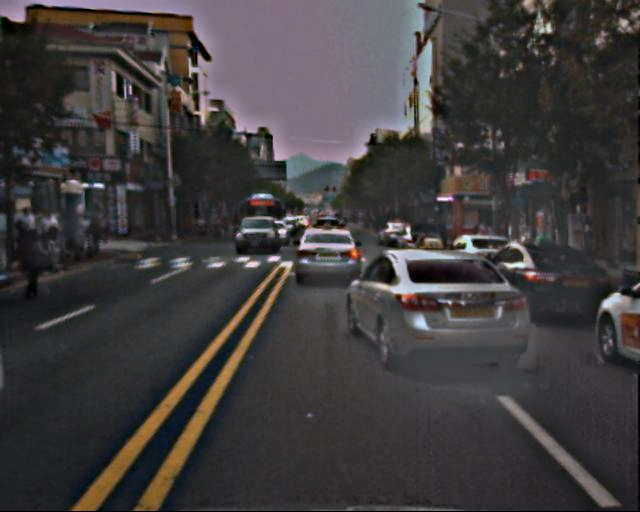person: (4, 213, 63, 295), (574, 223, 602, 292), (75, 209, 113, 258)
